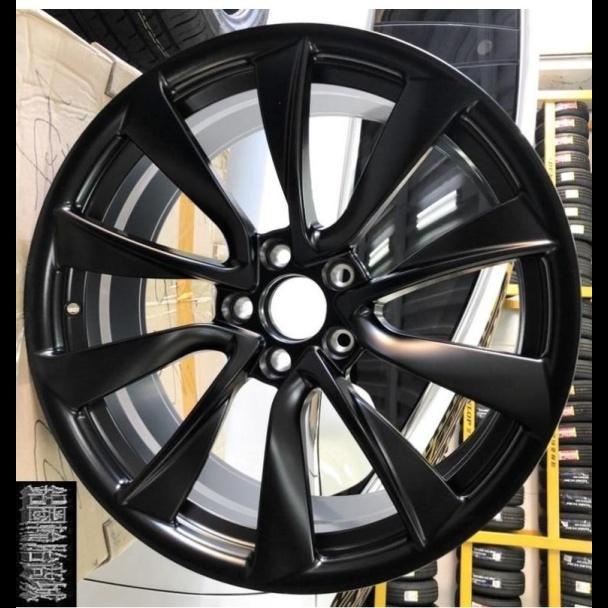hole: (259, 238, 294, 272), (261, 347, 295, 380), (322, 260, 355, 290), (324, 325, 354, 356), (225, 293, 254, 325)
